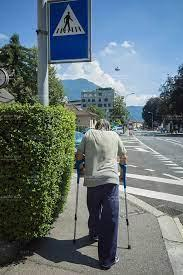crutches: (68, 106, 136, 270)
